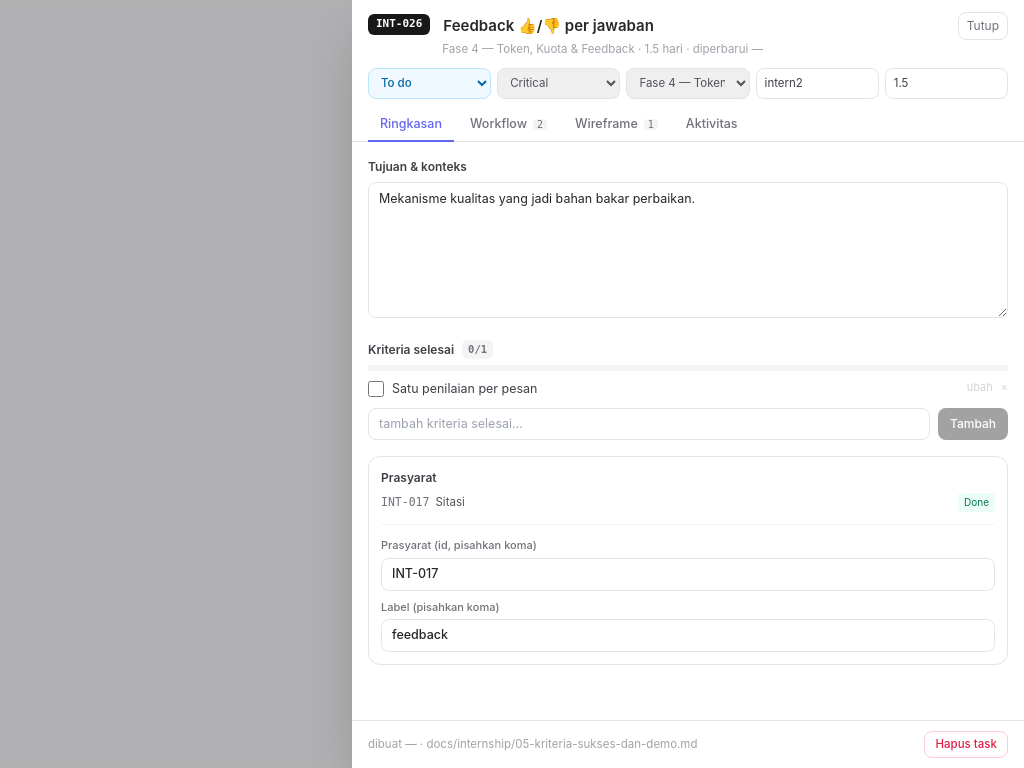
Test: TaskDetail — tab detail task › memindahkan branch & komentar ke tab Aktivitas
Click the tab "Aktivitas" at (712, 125), box [674, 109, 750, 142]
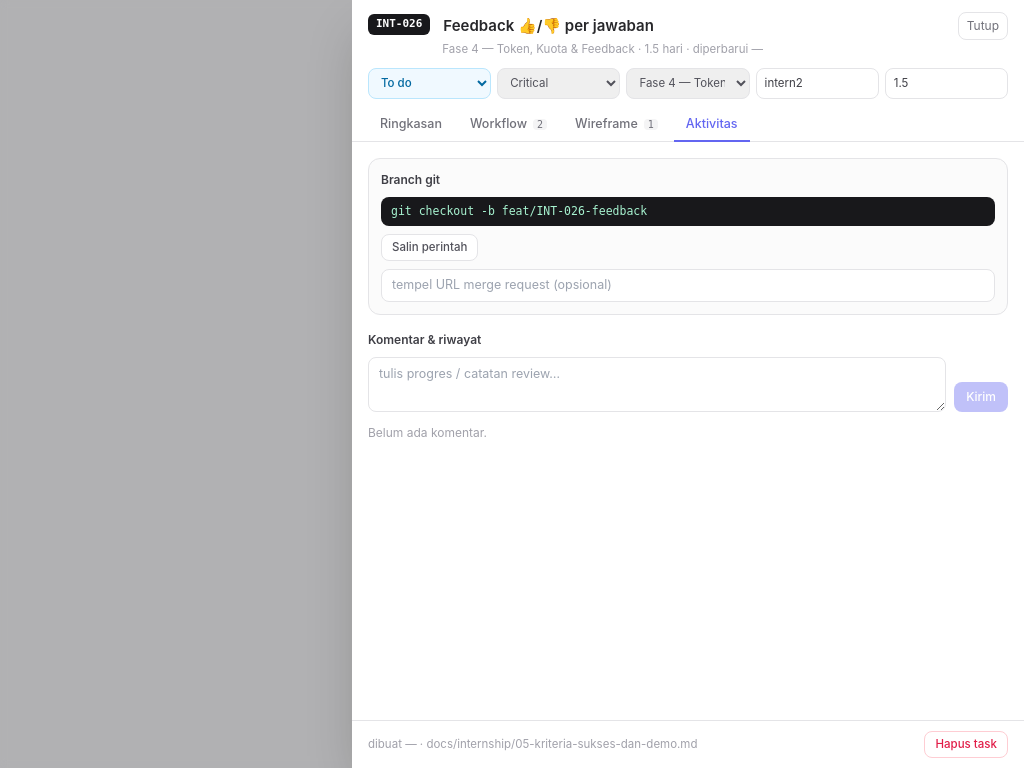
Expected: the text box named "Komentar baru" is shown, [368, 357, 946, 412]
Expected: the text "git checkout -b feat/INT-026-feedback" is shown, [381, 197, 995, 226]
